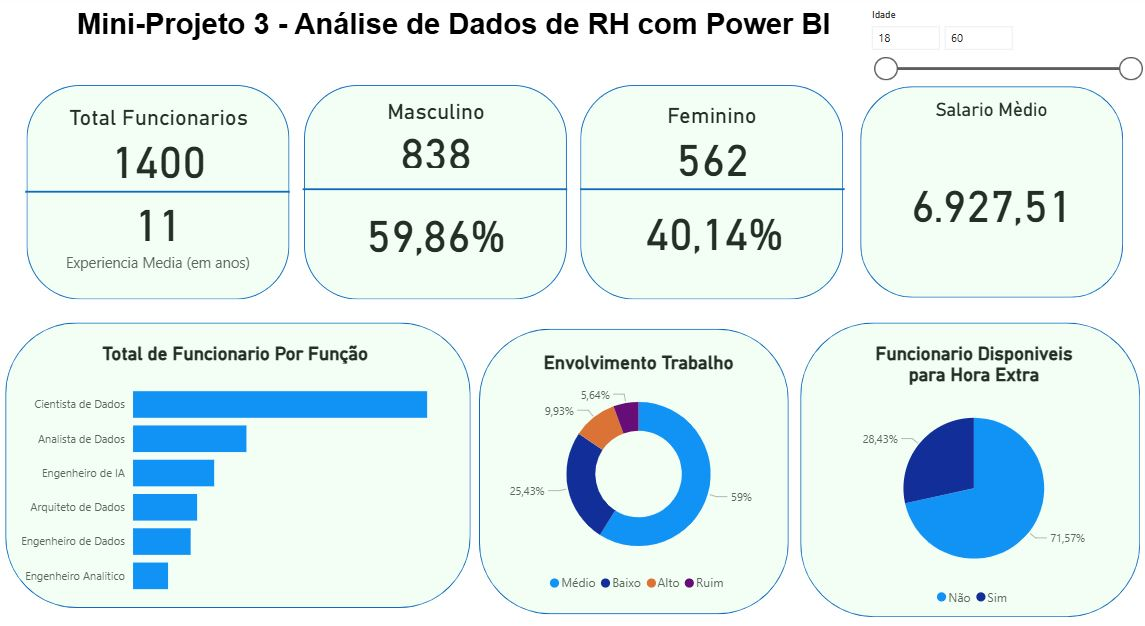

The page's visual inventory and layout, read from the dashboard file:
{"tool":"powerbi","page":{"name":"Página 1","canvas":[1280,720],"ordinal":0},"visuals":[{"type":"textbox","box":[87.9,10,855.8,74.6],"z":0},{"type":"donutChart","title":"Envolvimento Trabalho","fields":{"Category":["DatasetRH.Indice_Envolvimento_Trabalho"],"Y":["Count(DatasetRH.Id_Funcionario)"]},"box":[534,391.4,369.8,273.6],"z":1000},{"type":"slicer","fields":{"Values":["DatasetRH.Idade"]},"box":[961.9,10,318.4,89.6],"z":2000},{"type":"card","title":"Experiencia Media (em anos)","fields":{"Values":["Avg(DatasetRH.Anos_Experiencia)"]},"box":[69.7,207.3,242.1,102.8],"z":3000},{"type":"barChart","title":"Total de Funcionario Por Função","fields":{"Category":["DatasetRH.Funcao"],"Y":["Count(DatasetRH.Id_Funcionario)"]},"box":[28.2,381.4,494.2,291.9],"z":4000},{"type":"pieChart","title":"Funcionario Disponiveis para Hora Extra","fields":{"Category":["DatasetRH.Disponivel_Hora_Extra"],"Y":["Count(DatasetRH.Id_Funcionario)"]},"box":[923.8,381.4,326.7,298.5],"z":5000},{"type":"card","title":"Salario Mèdio","fields":{"Values":["Medidas.Media Salarial"]},"box":[995.1,114.4,222.2,199],"z":6000},{"type":"card","title":"Total Funcionarios","fields":{"Values":["Medidas.TabelaFuc"]},"box":[63,121.1,257.1,86.2],"z":7000},{"type":"card","title":"Feminino","fields":{"Values":["Medidas.TotalFeminino"]},"box":[724.8,117.8,149.3,86.2],"z":8000},{"type":"card","title":"Masculino","fields":{"Values":["Medidas.TotalMasculino"]},"box":[403,114.4,185.7,81.3],"z":9000},{"type":"card","fields":{"Values":["Medidas.% Genero Feminino"]},"box":[708.2,223.9,187.4,68],"z":10000},{"type":"card","fields":{"Values":["Medidas.% Genero Masculino"]},"box":[411.3,223.9,167.5,71.3],"z":11000},{"type":"shape","title":"Salario Mèdio","box":[46.4,99.3,288.6,235.5],"z":13000},{"type":"shape","title":"Salario Mèdio","box":[351.6,99.3,288.6,235.5],"z":14000},{"type":"shape","title":"Salario Mèdio","box":[655.1,99.3,288.6,235.5],"z":15000},{"type":"shape","title":"Salario Mèdio","box":[961.9,99.5,288.6,232.2],"z":16000},{"type":"shape","box":[44.8,66.3,290.2,300.2],"z":17000},{"type":"shape","box":[349.9,63,290.2,300.2],"z":18000},{"type":"shape","box":[655.1,63,290.2,300.2],"z":19000},{"type":"shape","title":"Salario Mèdio","box":[23.2,359.9,510.8,313.5],"z":19001},{"type":"shape","title":"Salario Mèdio","box":[544,366.5,340,313.5],"z":19002},{"type":"shape","title":"Salario Mèdio","box":[895.6,359.9,373.2,323.4],"z":19003}]}

Visuals, with their boxes in screenshot pixels (x1, y1, x2, y2), scaled from the page's 1280x720 canvas onto the 1145x626 screenshot:
textbox: 79,9,844,74
"Envolvimento Trabalho" donutChart: 478,340,808,578
slicer - DatasetRH.Idade: 860,9,1144,87
"Experiencia Media (em anos)" card: 62,180,279,270
"Total de Funcionario Por Função" barChart: 25,332,467,585
"Funcionario Disponiveis para Hora Extra" pieChart: 826,332,1119,591
"Salario Mèdio" card: 890,99,1089,272
"Total Funcionarios" card: 56,105,286,180
"Feminino" card: 648,102,782,177
"Masculino" card: 360,99,527,170
card - Medidas.% Genero Feminino: 634,195,801,254
card - Medidas.% Genero Masculino: 368,195,518,257
"Salario Mèdio" shape: 42,86,300,291
"Salario Mèdio" shape: 315,86,573,291
"Salario Mèdio" shape: 586,86,844,291
"Salario Mèdio" shape: 860,87,1119,288
shape: 40,58,300,319
shape: 313,55,573,316
shape: 586,55,846,316
"Salario Mèdio" shape: 21,313,478,585
"Salario Mèdio" shape: 487,319,791,591
"Salario Mèdio" shape: 801,313,1135,594
